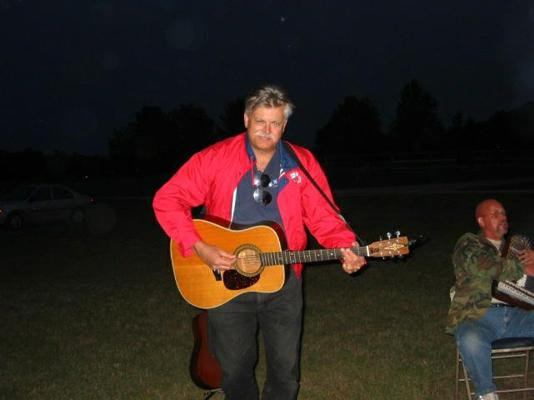person: (153, 88, 368, 400)
